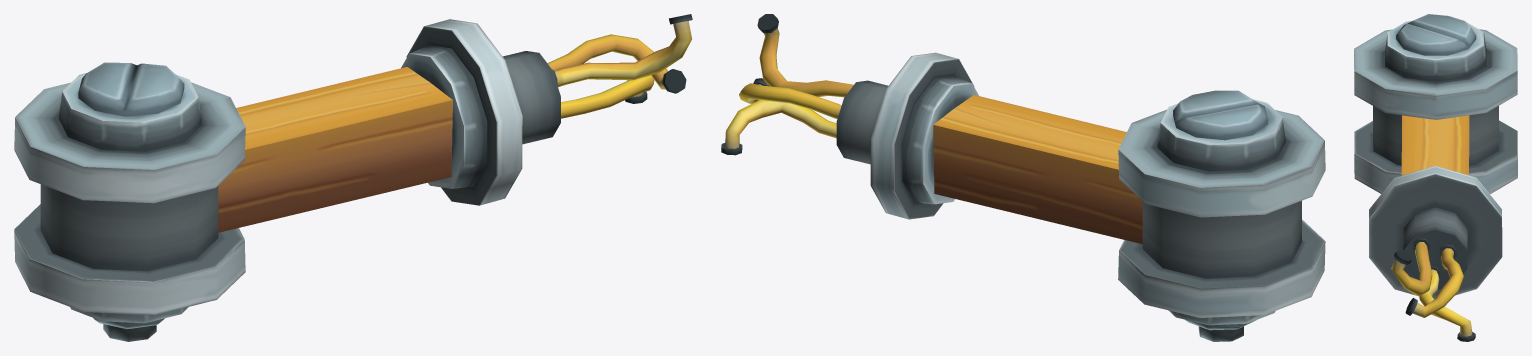
File: Wooden_Robot_Arm.fbx
3 views of the same model, side by side, from view 1: azimuth 30°, elevation 25°; view 2: azimuth 150°, elevation 25°; view 3: azimuth 270°, elevation 25° (orthographic). The views are drawn at different scales.
Parts seen in each view (by area): view 1: Wooden_Robot_Arm; view 2: Wooden_Robot_Arm; view 3: Wooden_Robot_Arm.
Part boxes in pixels (x1=…): Wooden_Robot_Arm: x1=14, y1=14, x2=692, y2=341; Wooden_Robot_Arm: x1=721, y1=14, x2=1325, y2=341; Wooden_Robot_Arm: x1=1354, y1=14, x2=1517, y2=341.
Size of the model in its own units: 0.6041 by 0.4808 by 1.61.
